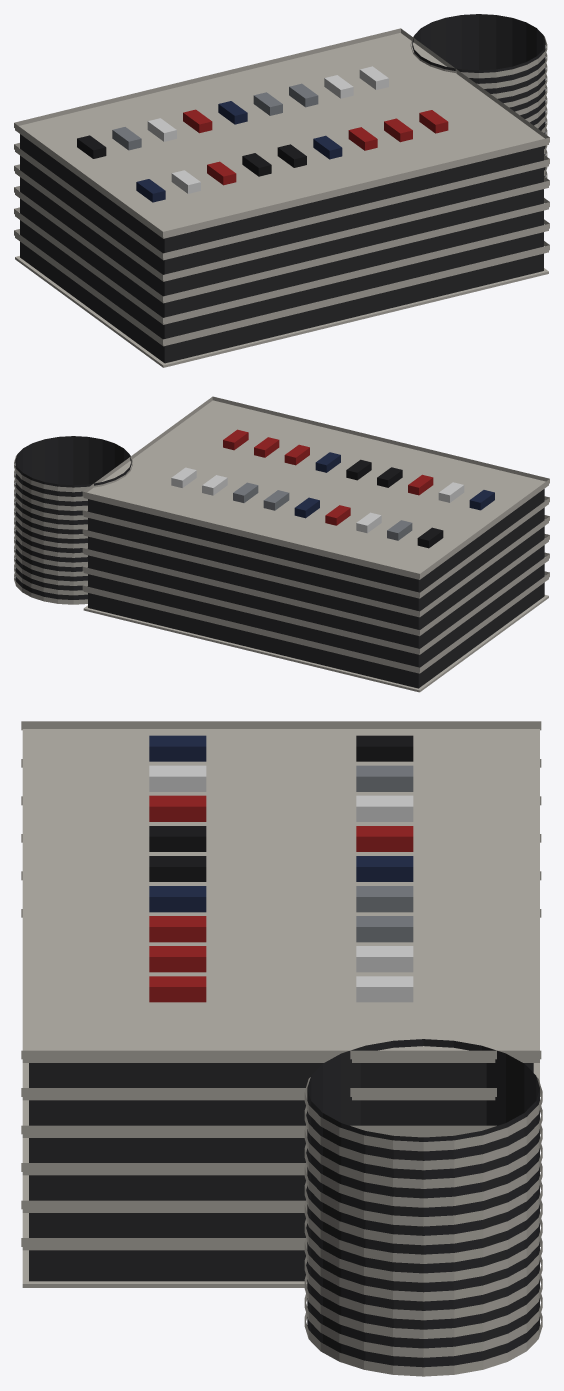
File: parking_deck.glb
3 views of the same model, one above another, from view 1: azimuth 30°, elevation 25°; view 2: azimuth 150°, elevation 25°; view 3: azimuth 270°, elevation 25° (orthographic). The views are drawn at different scales.
Parts seen in each view (by area): view 1: parking_deck; view 2: parking_deck; view 3: parking_deck.
Part boxes in pixels (left/top/right/bottom): parking_deck: left=14, top=14, right=549, bottom=367; parking_deck: left=14, top=396, right=549, bottom=692; parking_deck: left=21, top=721, right=542, bottom=1376.
Size of the model in its own units: 76.3 by 21 by 40.3.
Materials: 1 (1 with a texture image).
